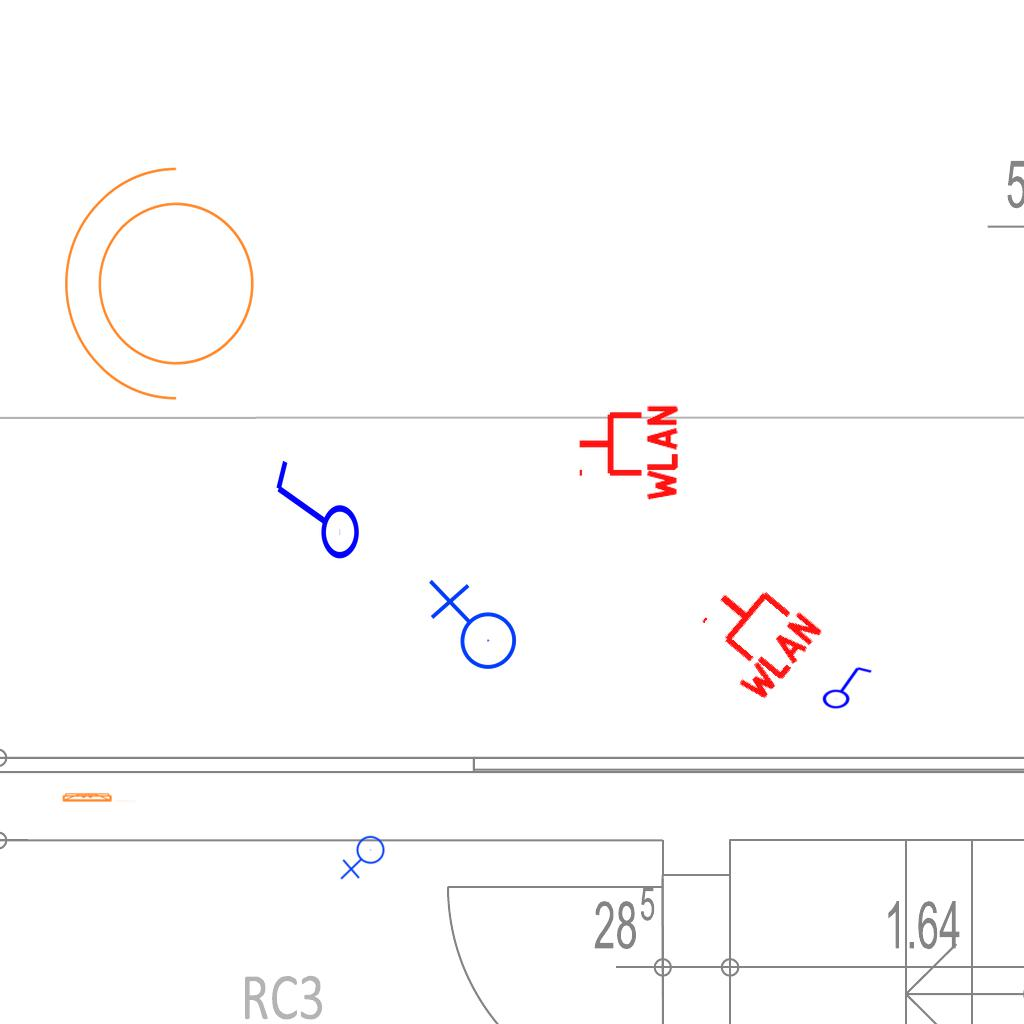Ausschalter: (266, 458, 362, 570), (817, 662, 873, 710)
Elektroanschluss_allgemein_230V_Geraeteanschlussdose_230V: (424, 579, 518, 678), (340, 835, 389, 882)
Scheinwerfer_fuer_Alarmbeleuchtung: (54, 158, 279, 422)
Sicherheitsleuchte_Wandeinbau: (60, 791, 139, 803)
WLAN: (679, 561, 828, 709), (575, 401, 680, 505)
